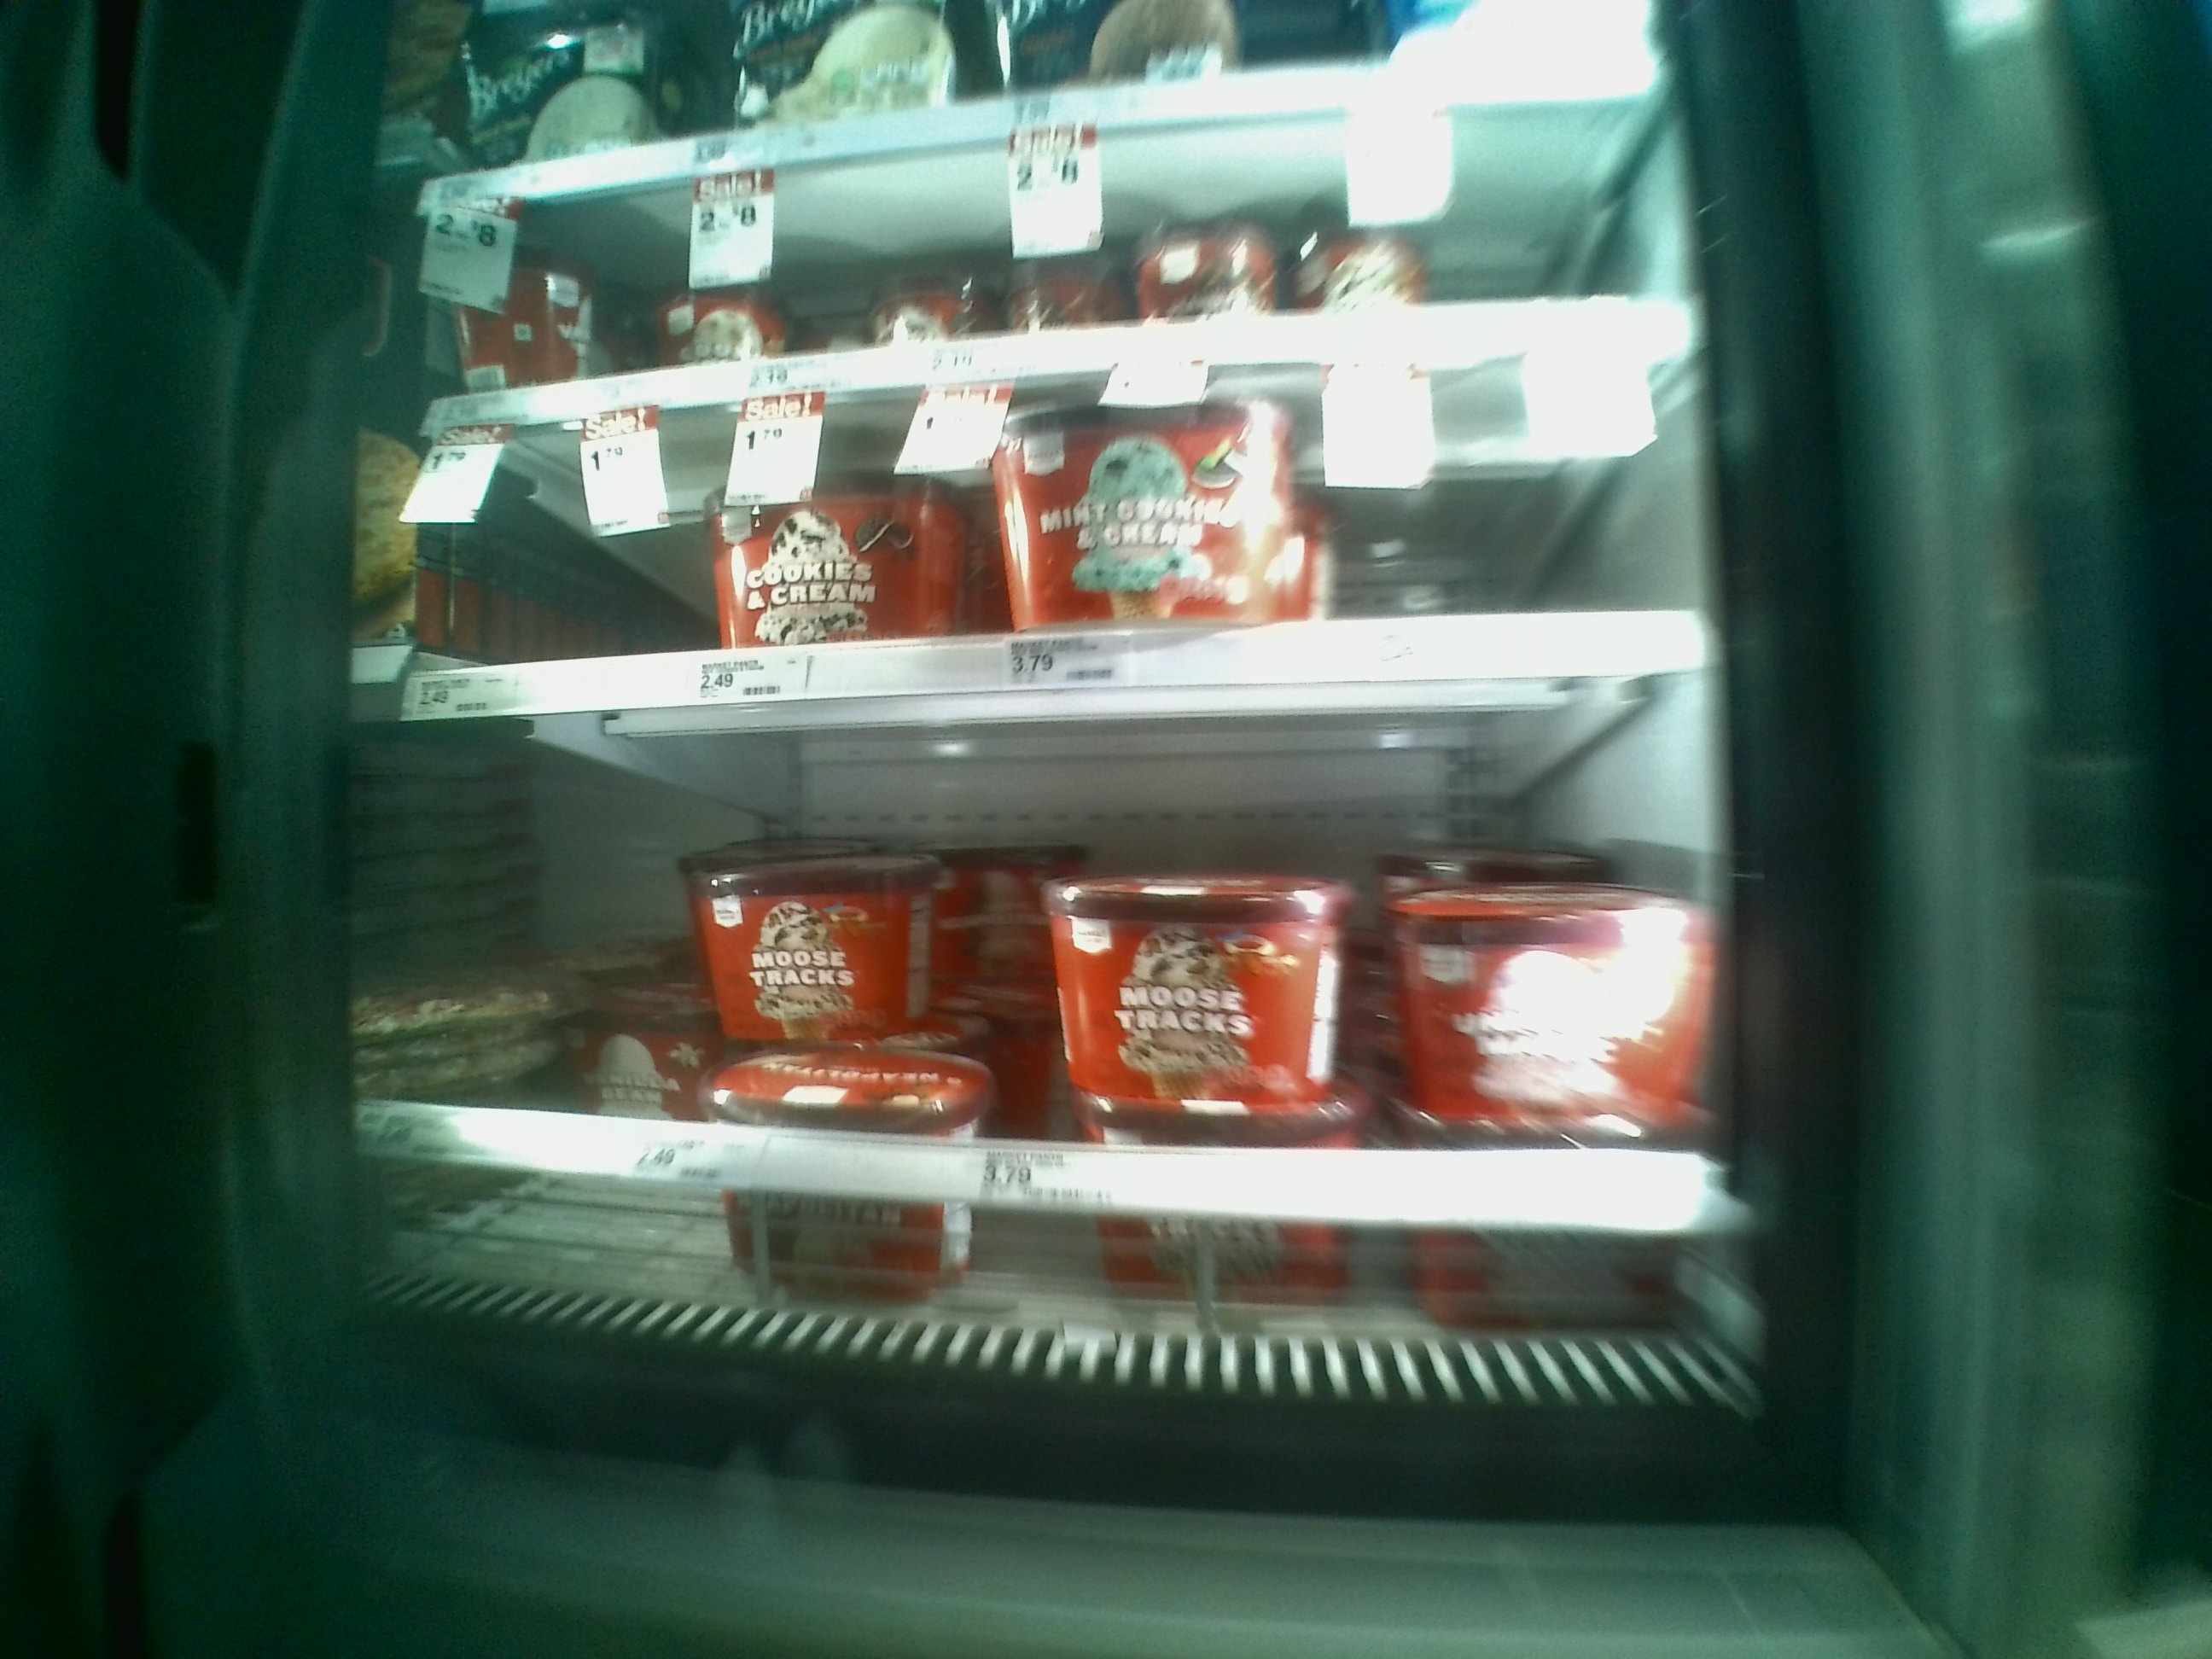ice-cream-shelf: (387, 711, 1728, 1286)
